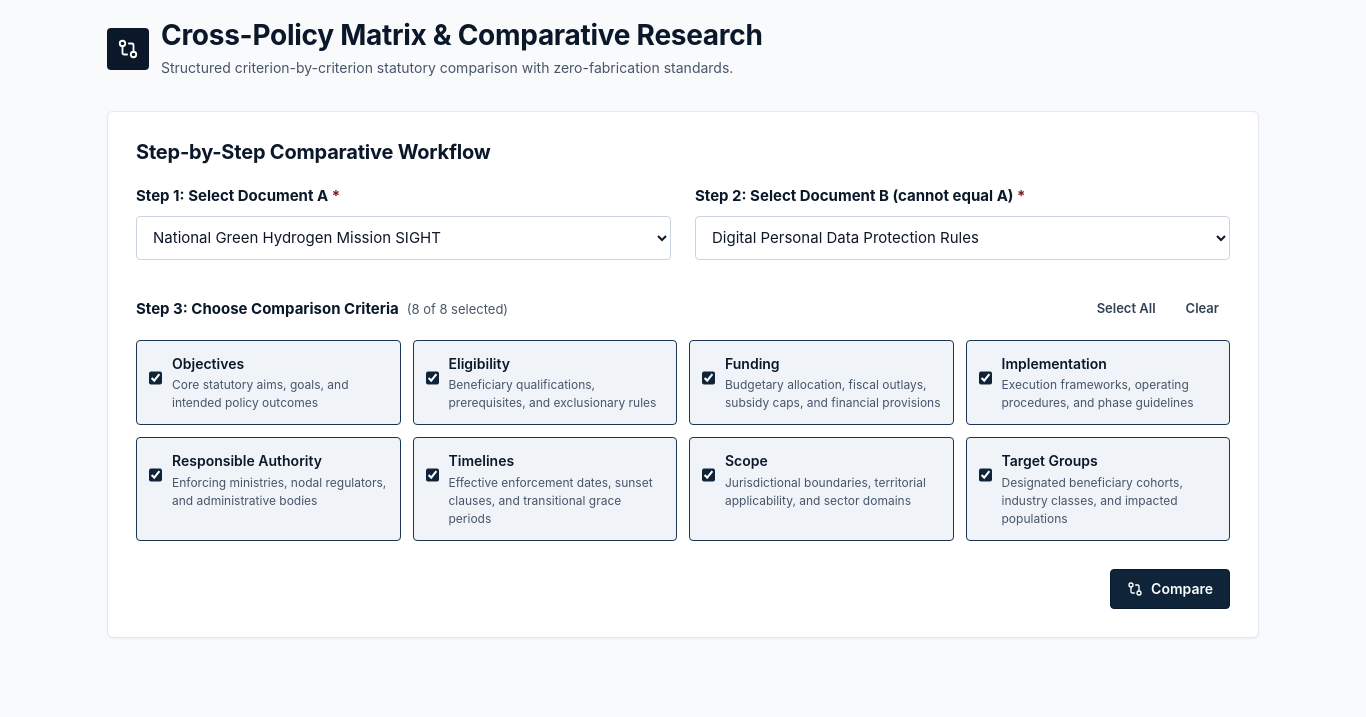
PHASE 5C — Cross-Policy Comparison Flow › handles comparison API errors with Retry button
Step 1. Select "National Green Hydrogen Mission SIGHT" in the dropdown labelled "Step 1: Select Document A *" → point(404, 238), box [136,216,671,260]
Step 2. Select "Digital Personal Data Protection Rules" in the dropdown labelled "Step 2: Select Document B (cannot equal A) *" → point(962, 238), box [695,216,1230,260]
Step 3. Click the button "Compare" → point(1170, 589), box [1110,569,1230,609]
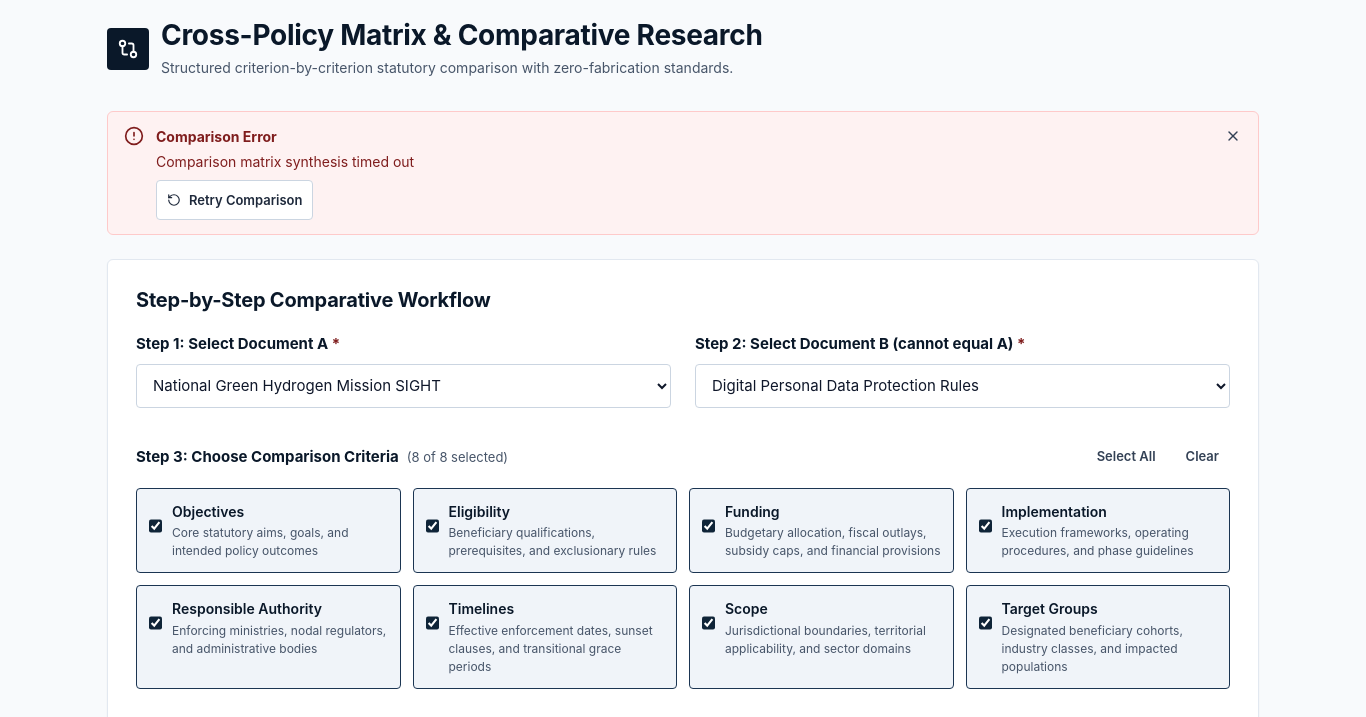
Now the text "Comparison matrix synthesis timed out" is shown, box [156,153,414,170]
Now the button "Retry Comparison" is shown
Step 4. Click the button "Retry Comparison" → point(235, 200), box [156,180,314,220]
(page scrolled)
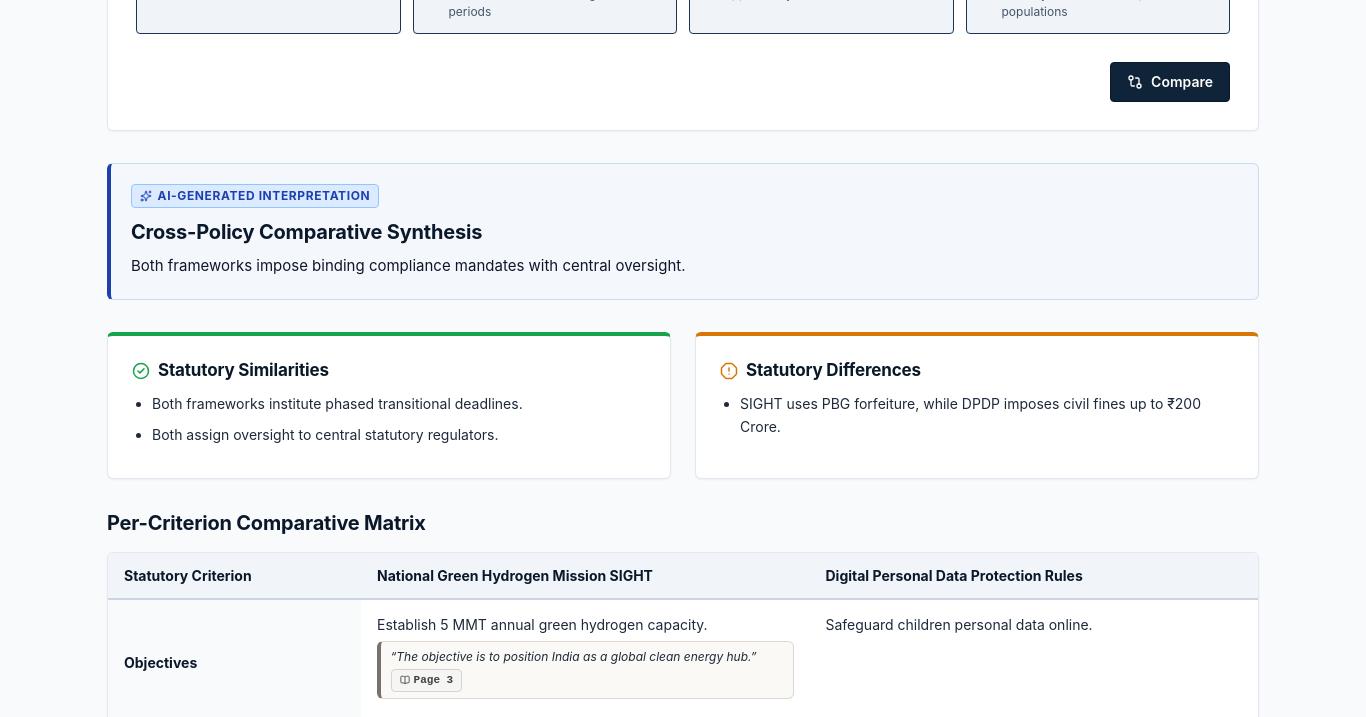
Now the heading "Statutory Similarities" is shown, box [158,360,329,381]
